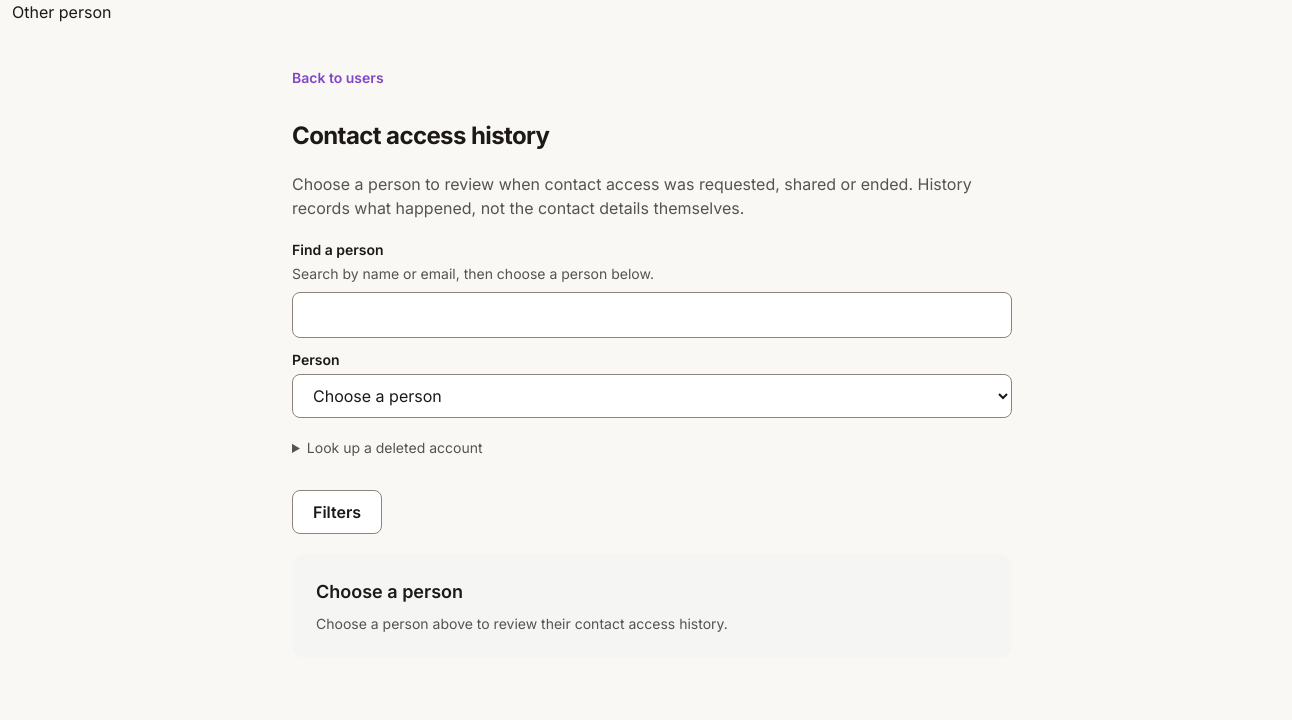
rejects overflow without coercion and preserves all draft fields
Click the heading "Look up a deleted account" at [395, 448], box [307,439,482,456]
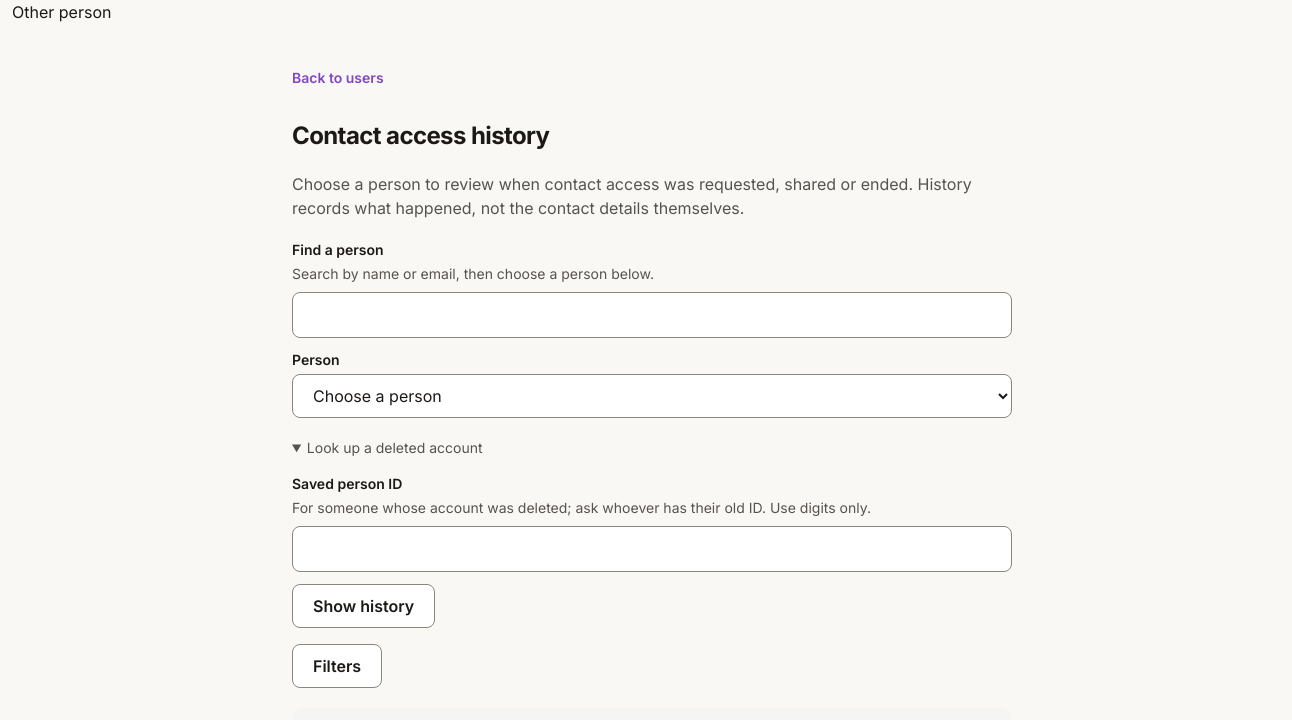
Type "9223372036854775808" into the field labelled "Saved person ID" at [652, 549], box [292,526,1012,572]
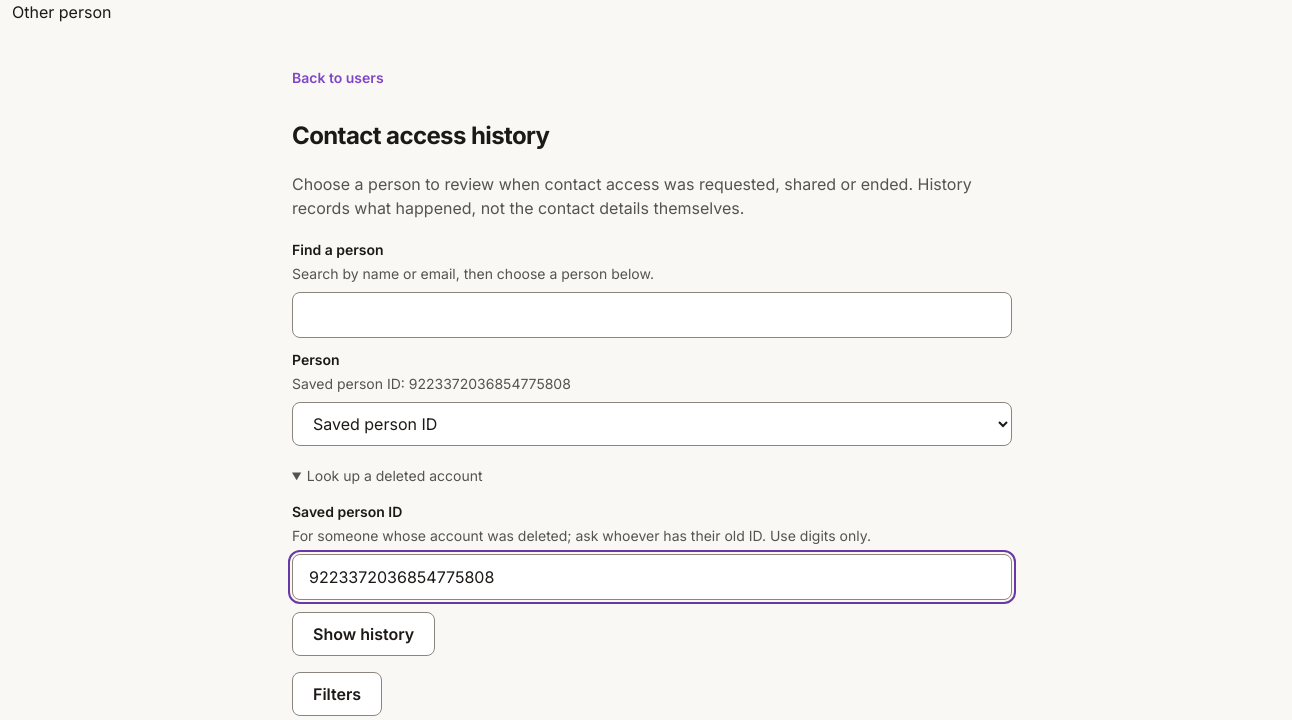
Click the button "Filters" at [337, 694], box [292,672,382,716]
(page scrolled)
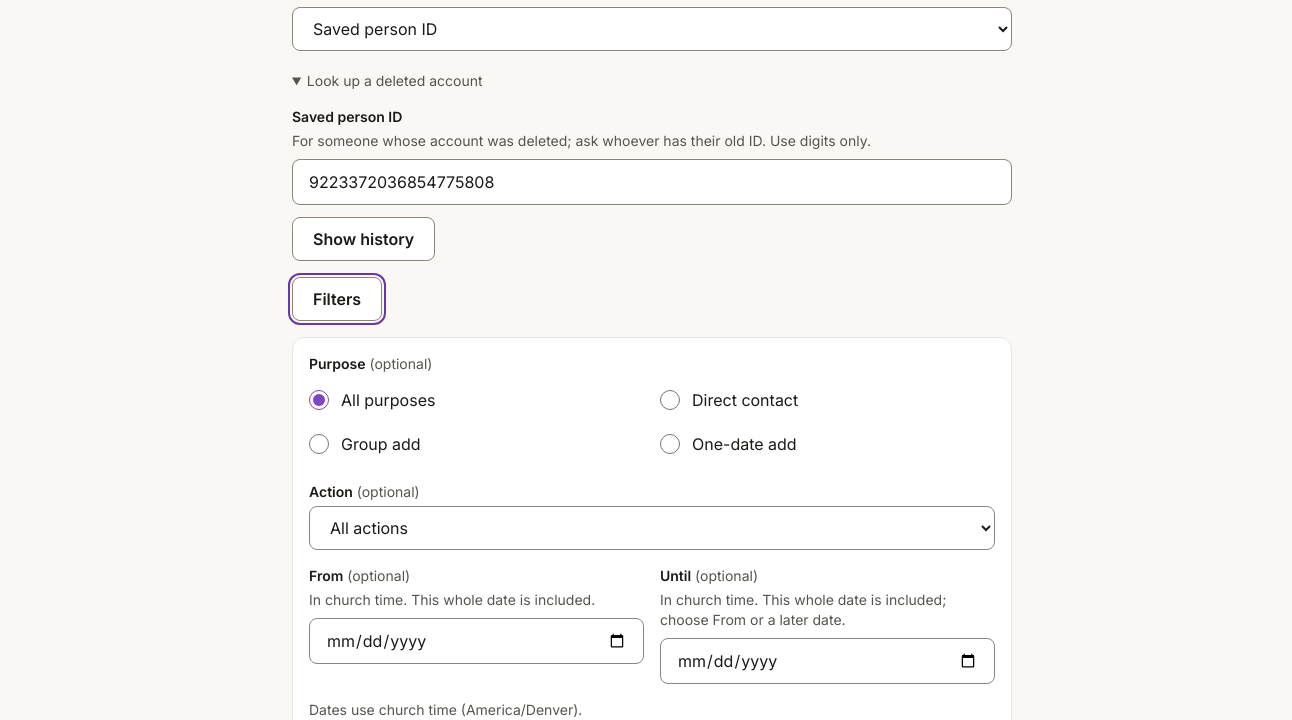
Click the radio button labelled "Direct contact" at [670, 400], box [660,390,680,410]
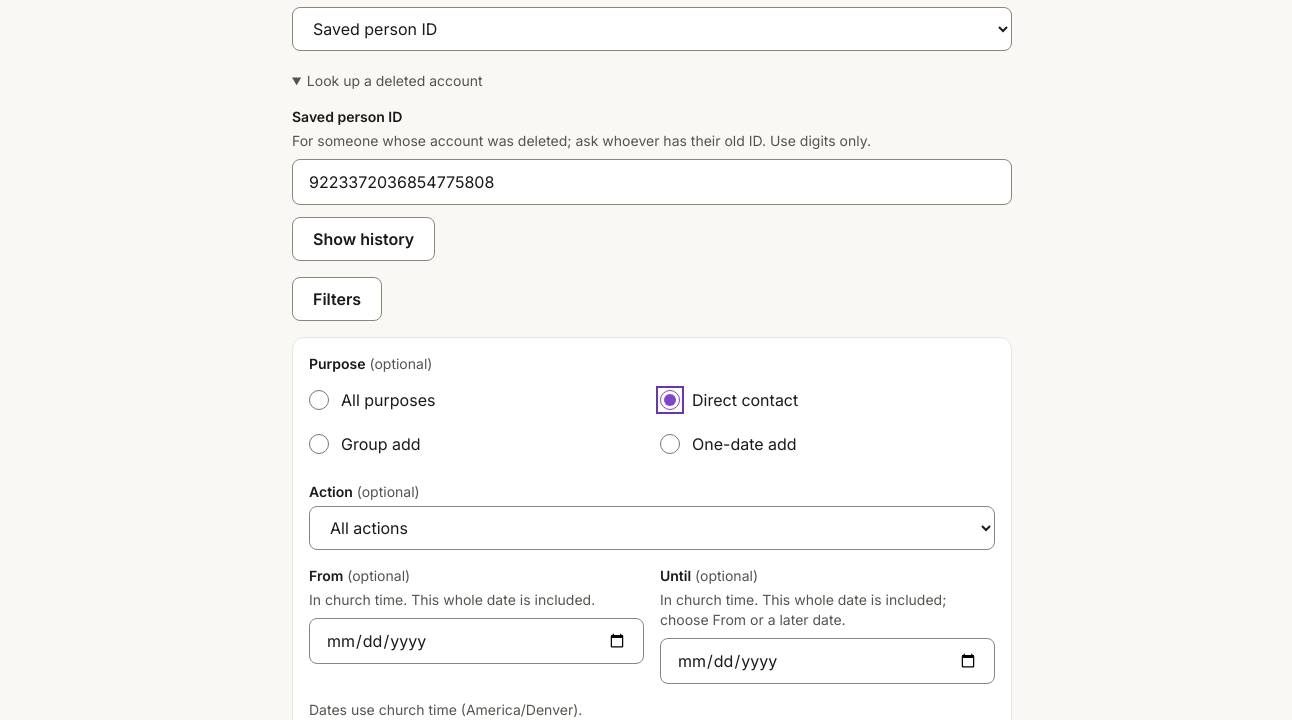
Type "2026-11-01" into the date field labelled "Until (optional)" at [828, 661], box [660,638,995,684]
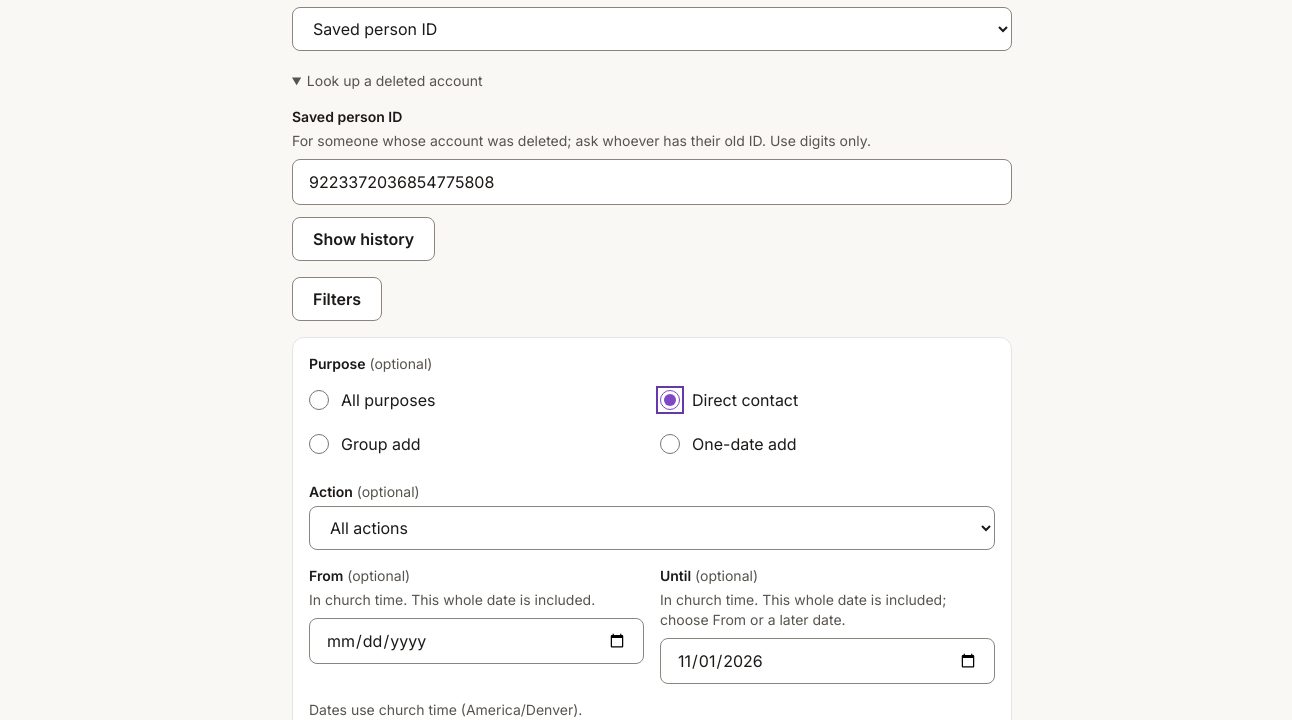
Click the button "Show history" at [364, 239], box [292,217,435,261]
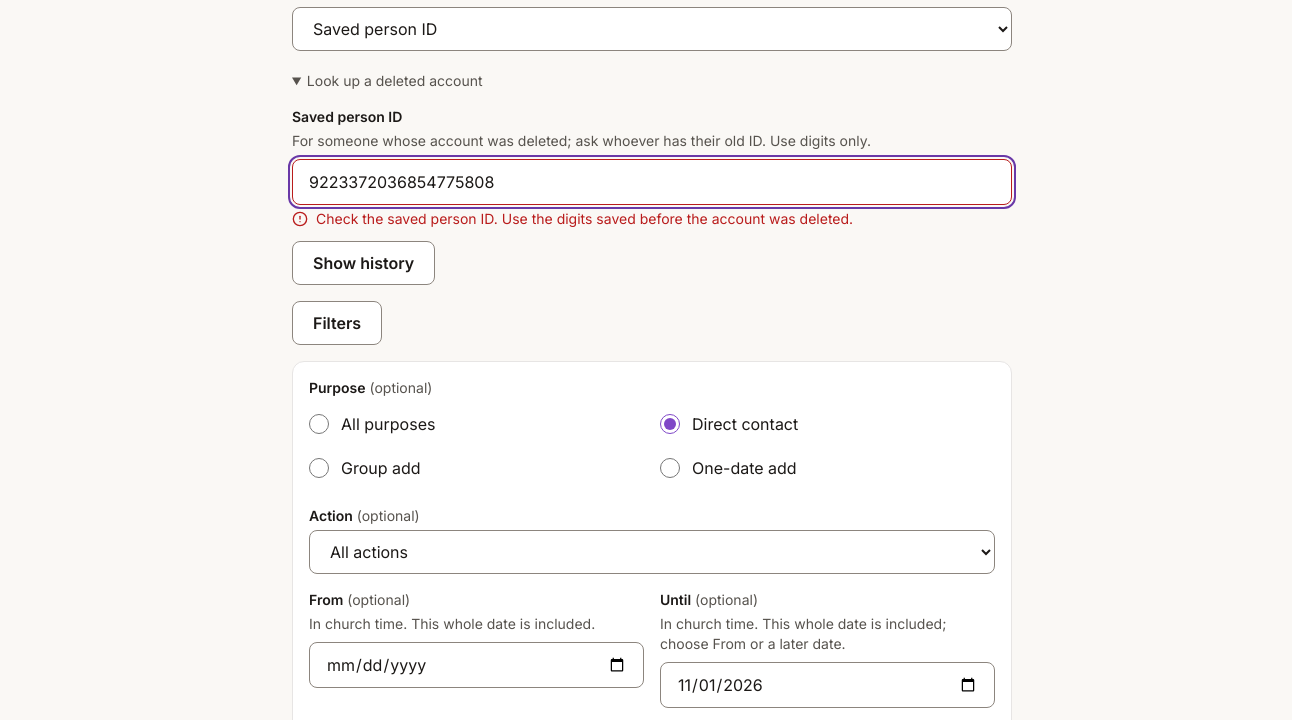
expect the radio button labelled "Direct contact" is checked: met, box [660,414,680,434]
expect the text "Check the saved person ID. Use the digits saved before the account was deleted." is shown: met, box [292,210,853,227]
